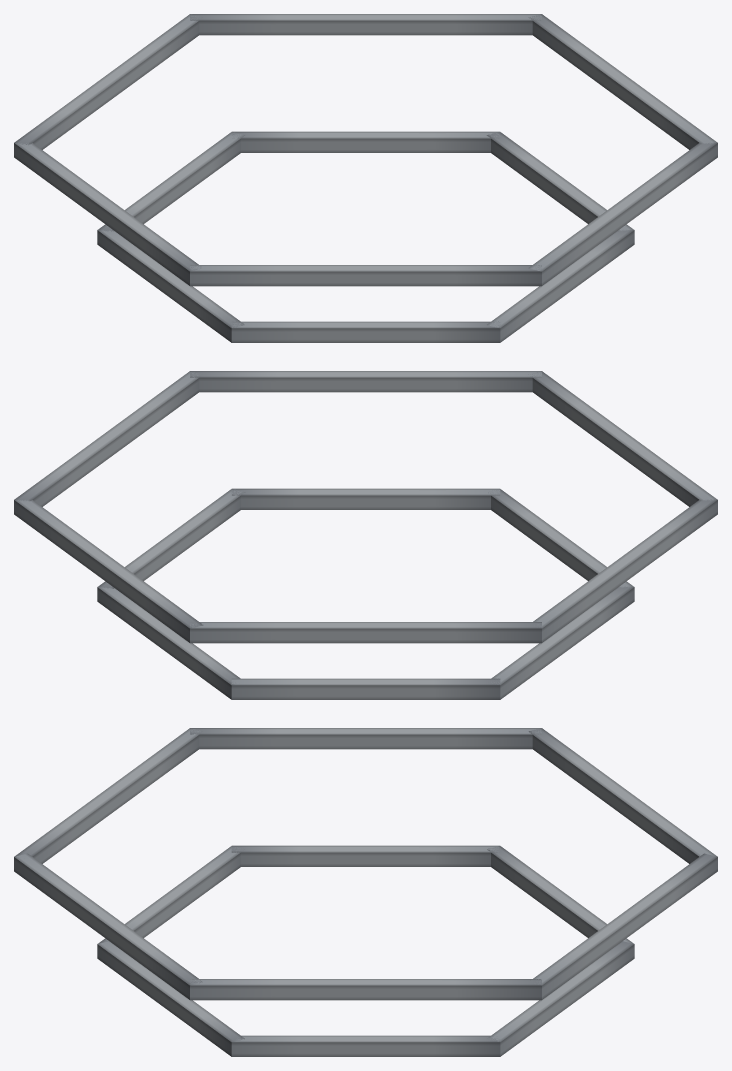
Rendered from rotor_spinner_mid.obj.
The picture shows the model from 3 angles, top to bottom: view 1: azimuth 30°, elevation 25°; view 2: azimuth 150°, elevation 25°; view 3: azimuth 270°, elevation 25°; orthographic projection.
Bounding box in the file's own units: 4.75 × 0.875 × 5.48.
